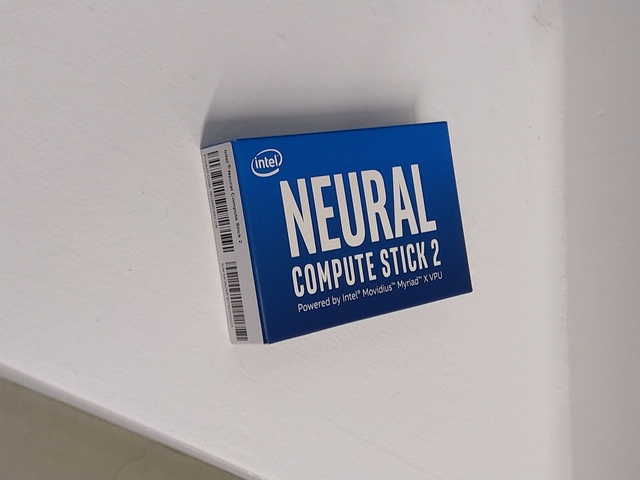box: (199, 121, 474, 347)
